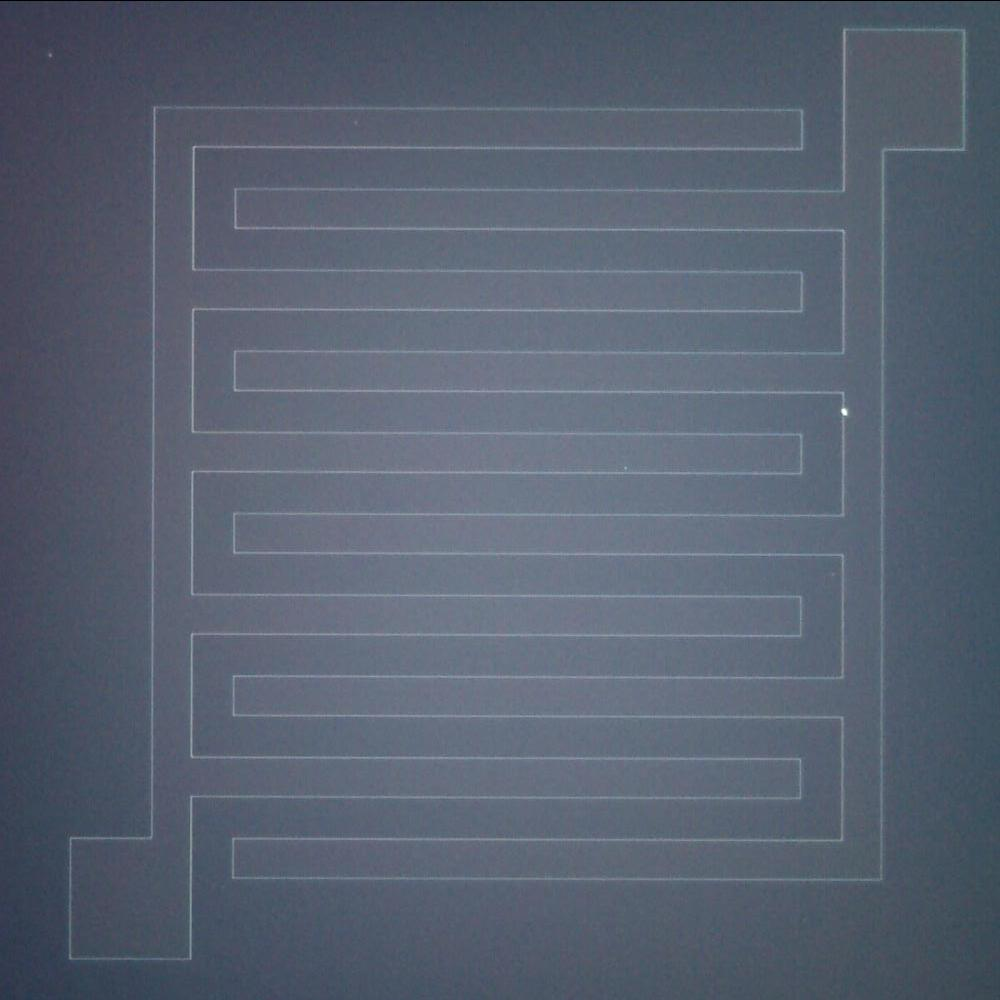dot: (834, 399, 854, 422)
